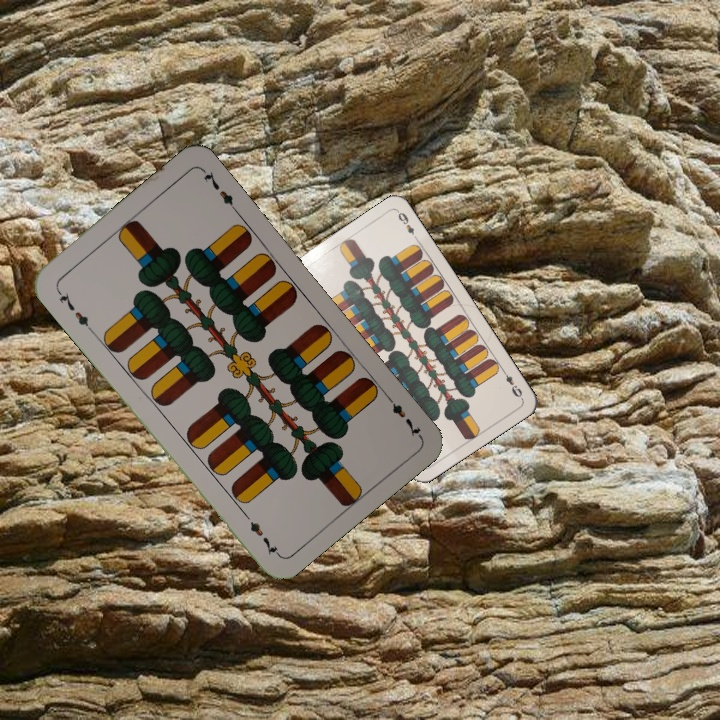E7: (381, 390, 424, 440), (52, 285, 95, 334)
E9: (498, 365, 525, 401)
